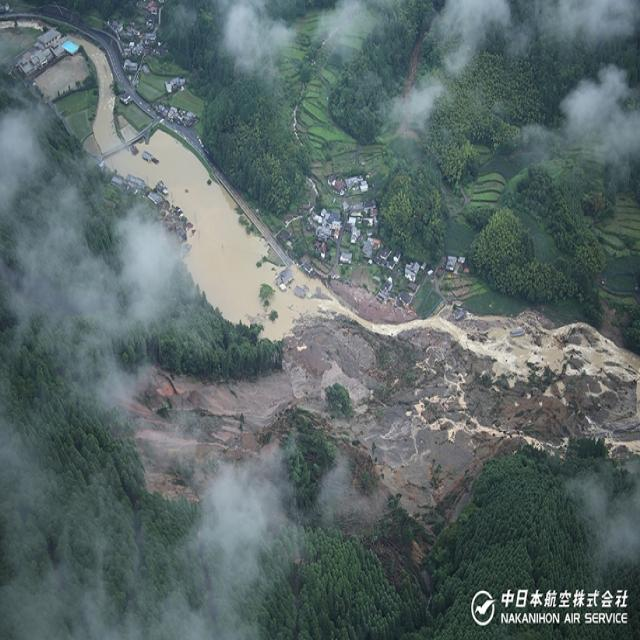Debris-flow: (119, 304, 640, 537)
